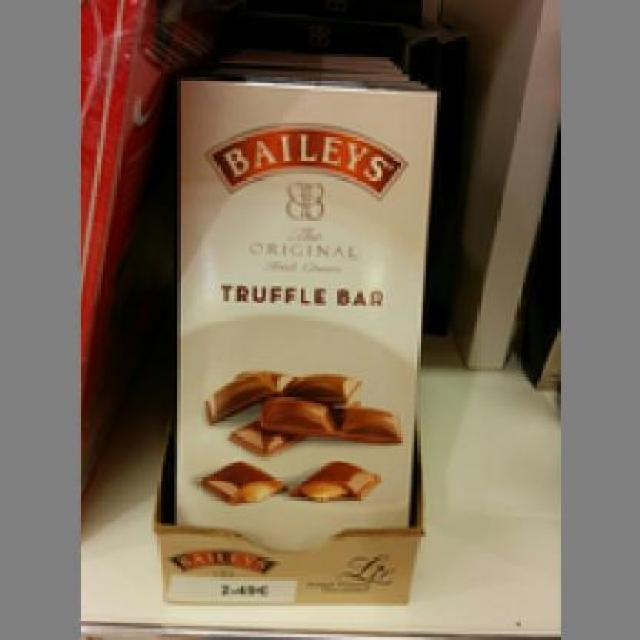Chocolate bar: (174, 77, 437, 557)
